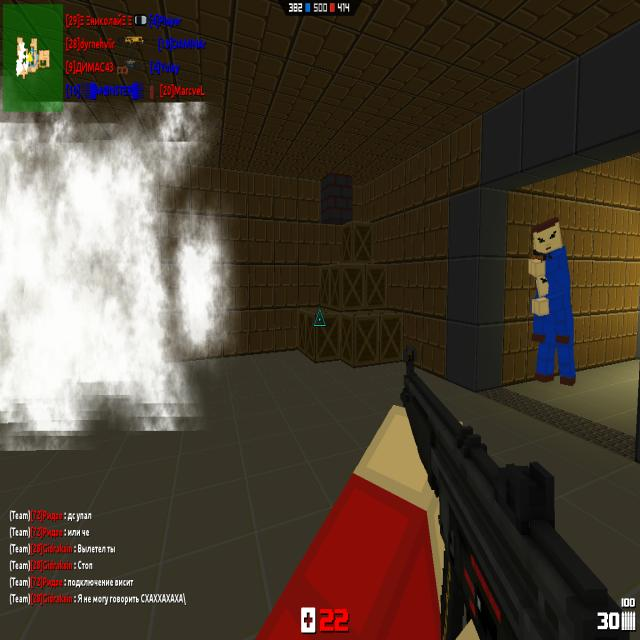enemy: (528, 217, 570, 339), (534, 272, 576, 388)
